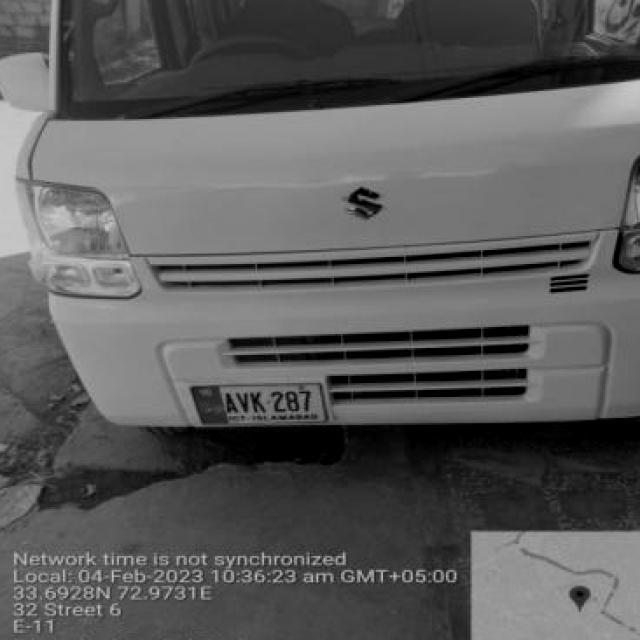licenseplate: (186, 372, 337, 438)
